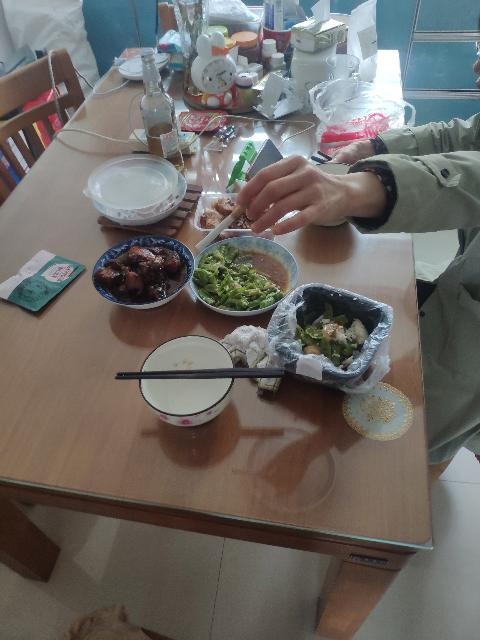Cigarette: (196, 196, 254, 252)
